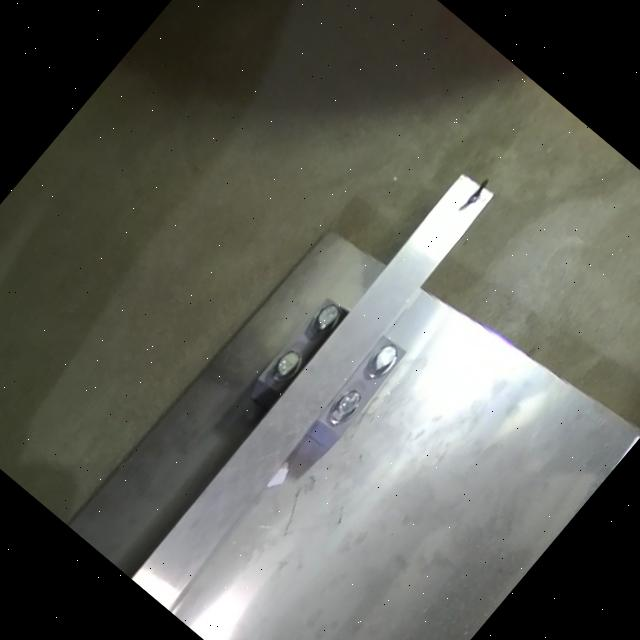blocks: (218, 268, 434, 488)
